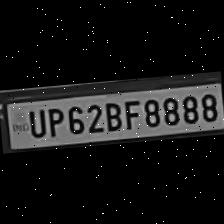2: (83, 100, 104, 134)
6: (62, 101, 85, 135)
8: (158, 92, 182, 126), (196, 88, 220, 122), (140, 94, 162, 128), (178, 90, 200, 124)
B: (100, 97, 122, 130)
F: (120, 96, 142, 130)
P: (44, 104, 65, 136)
U: (22, 105, 46, 138)
